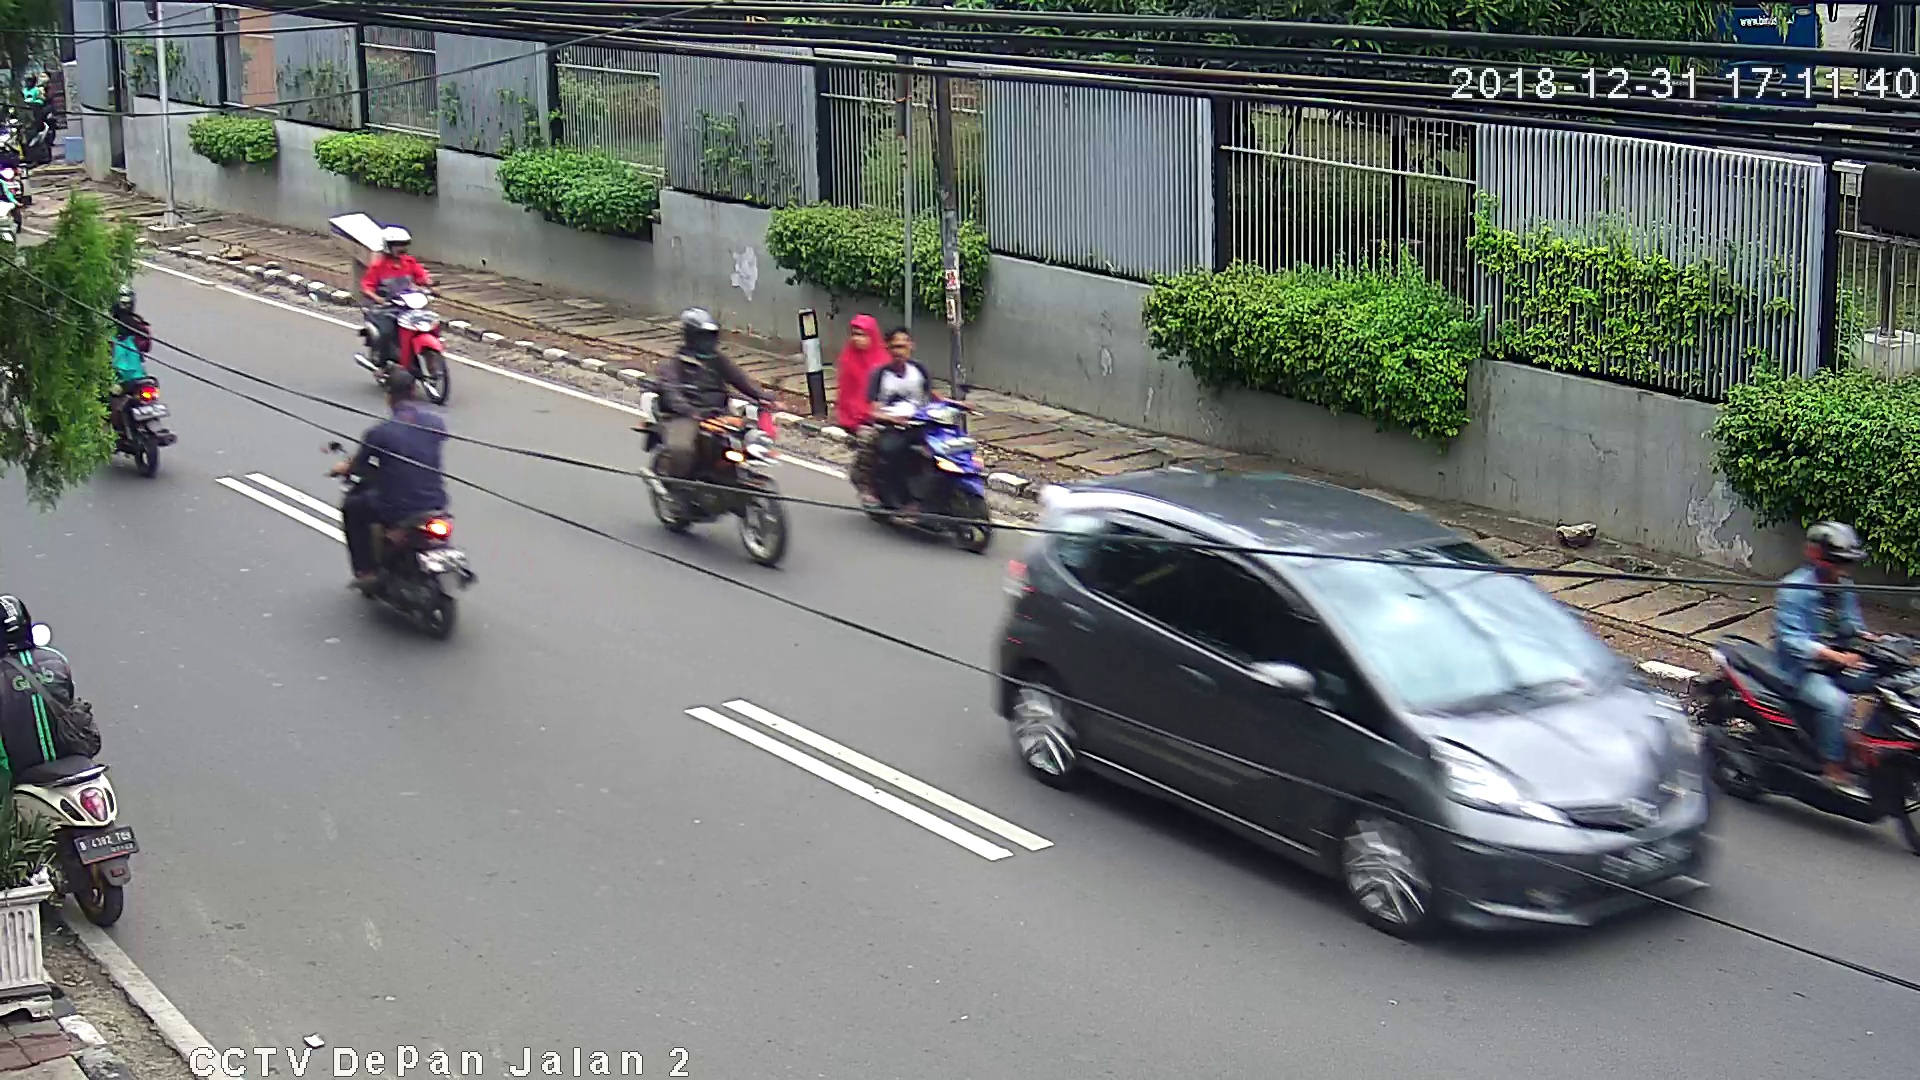car: (996, 462, 1720, 942)
motorcycle: (1691, 513, 1919, 864), (1, 583, 146, 924), (319, 356, 480, 651), (626, 302, 787, 574), (833, 305, 997, 556), (320, 204, 454, 407), (105, 287, 179, 481)
